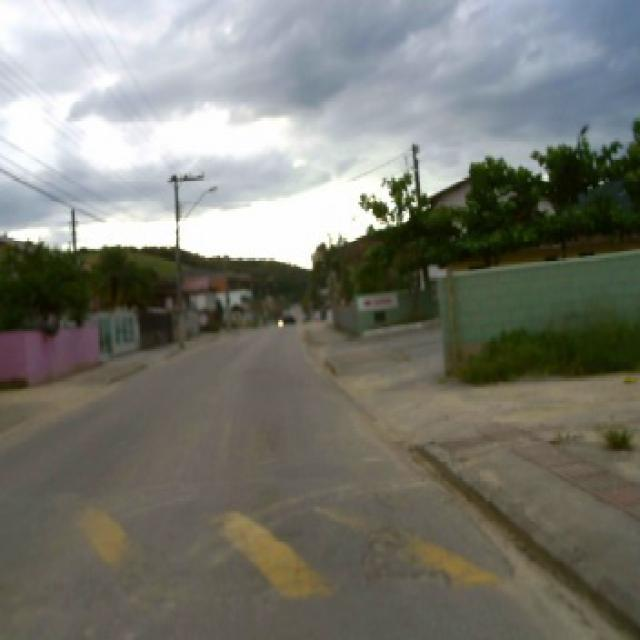Poth-hole: (0, 468, 513, 604)
